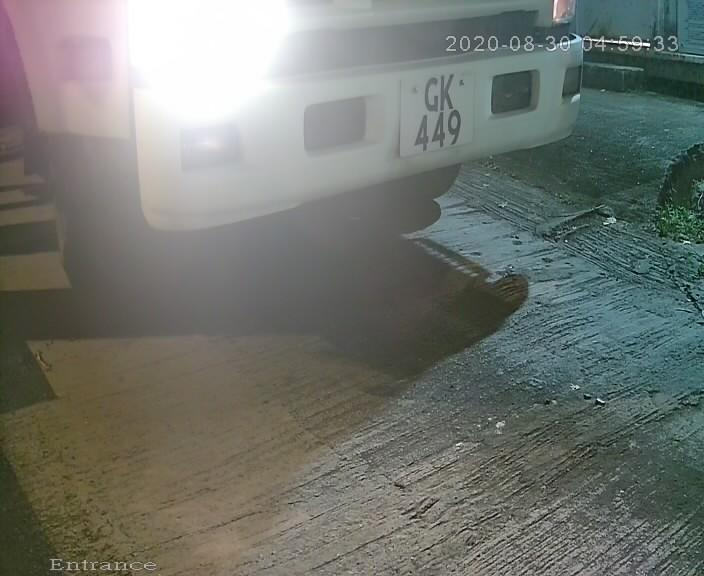License Plate: (381, 49, 488, 175)
